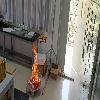fire: (30, 42, 40, 89)
